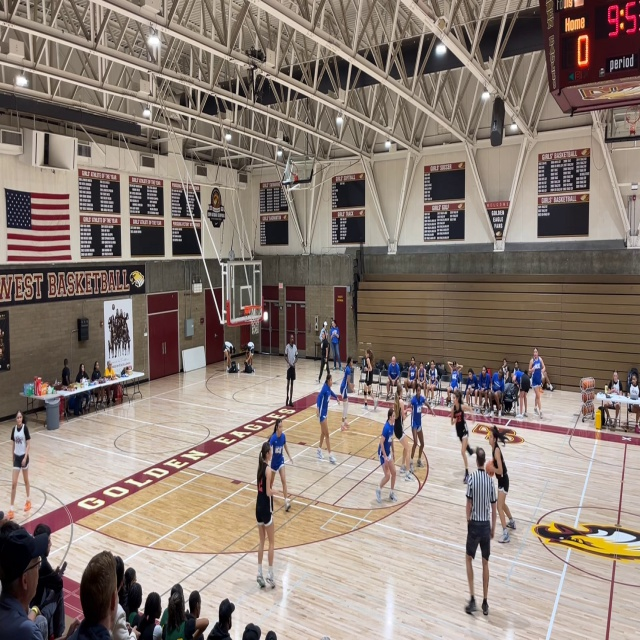Basketball: (484, 461, 496, 475)
